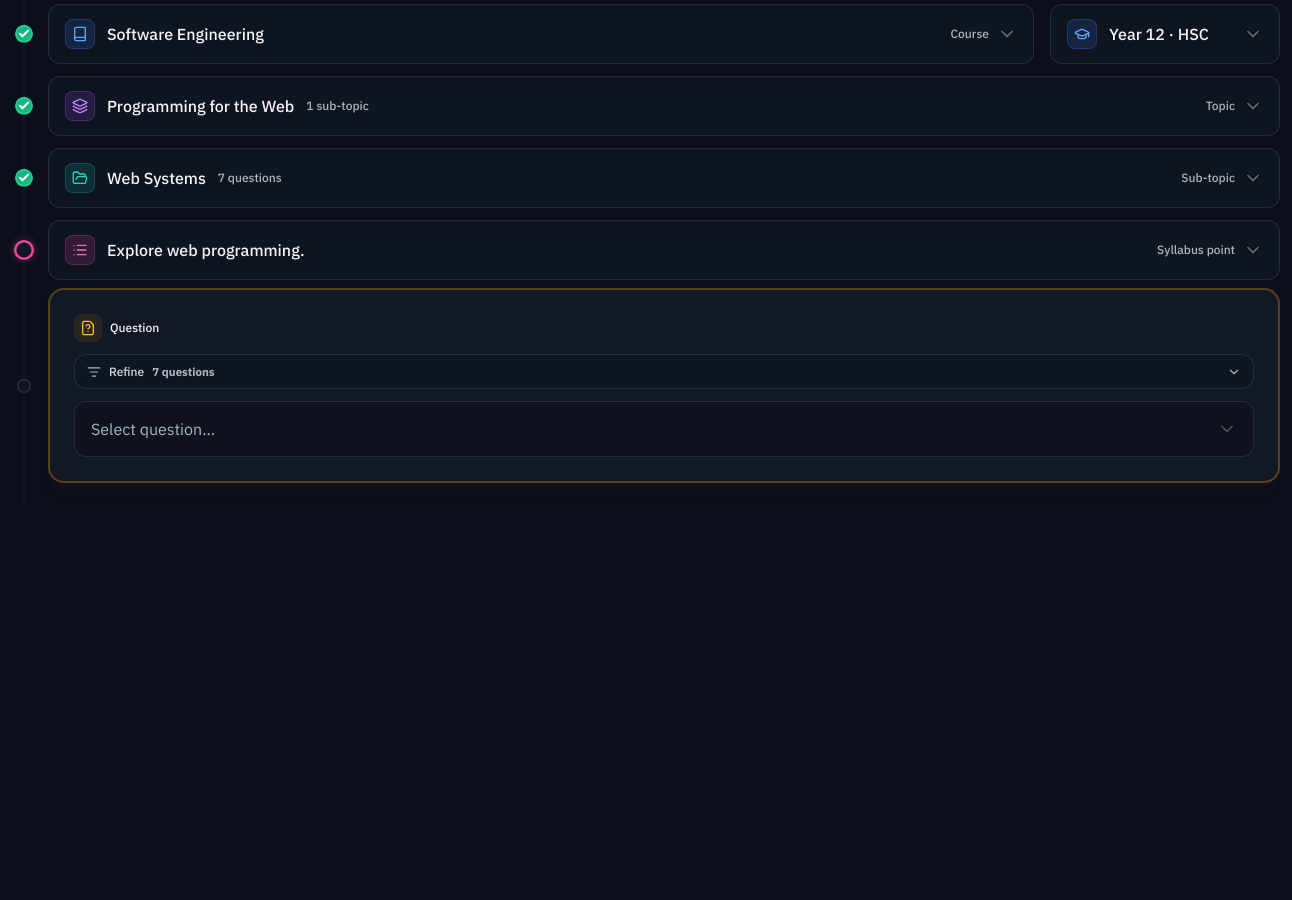
Scenario: the question picker, once it knows how the reader went › offers more practice at the same tier after a weak result
This screenshot has width=1292, height=900.
Click the button "Select question…": (153, 429) [74,401,1254,457]
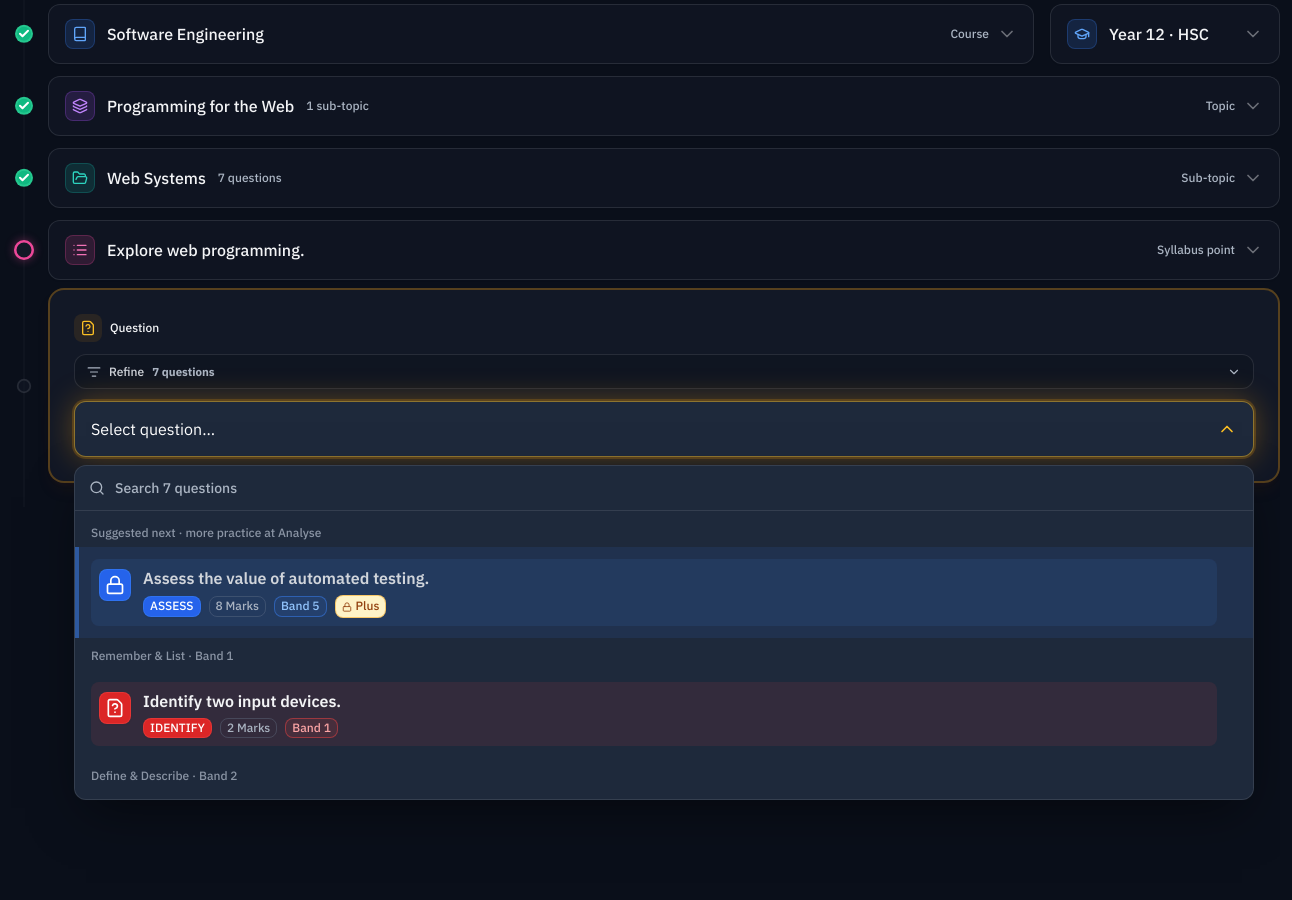
Expected: the text "Suggested next · more practice at Analyse" is shown, [75,515,1253,548]
